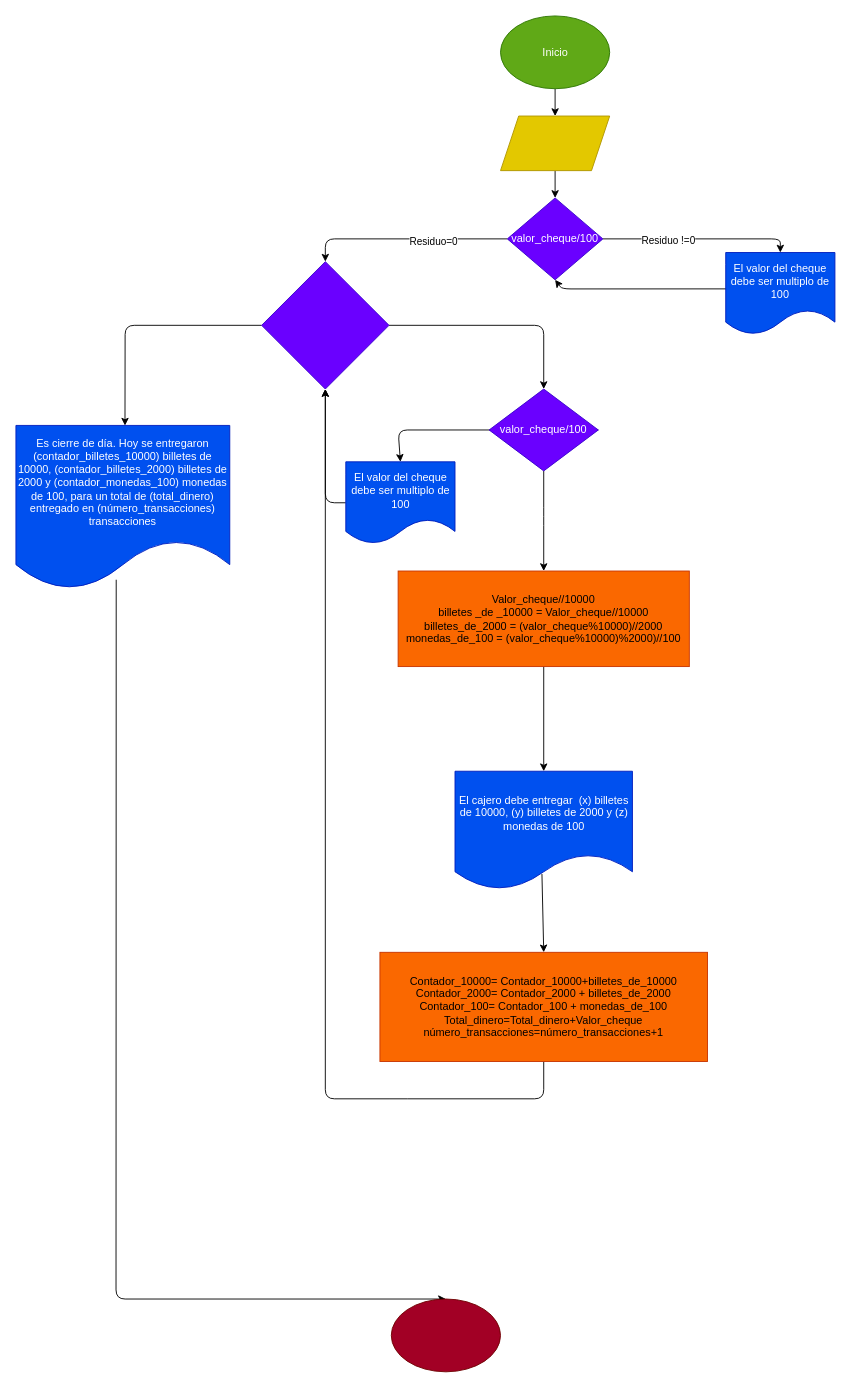
The diagram is 851 pixels wide and 1388 high, and some of its shapes have lost their labels. Here are the shapes that lost their labels. From the top down, the centre of each, then its label:
(555,143): Valor cheque
(325,325): valor_cheque !=0
(445,1335): Fin
